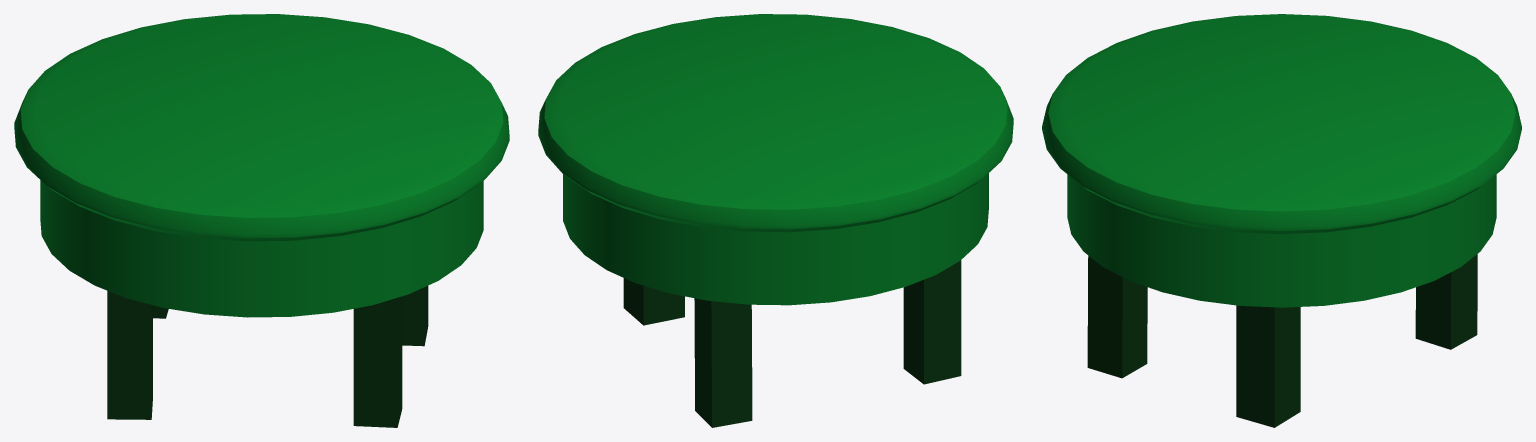
The model's file is table1.fbx.
3 views of the same model, side by side, from view 1: azimuth 30°, elevation 25°; view 2: azimuth 150°, elevation 25°; view 3: azimuth 270°, elevation 25° (orthographic). The views are drawn at different scales.
Parts seen in each view (by area): view 1: Table1; view 2: Table1; view 3: Table1.
Part boxes in pixels (x1=…): Table1: x1=14, y1=14, x2=509, y2=427; Table1: x1=538, y1=14, x2=1013, y2=427; Table1: x1=1042, y1=14, x2=1521, y2=427.
Bounding box in the file's own units: 137 × 76.88 × 137.
